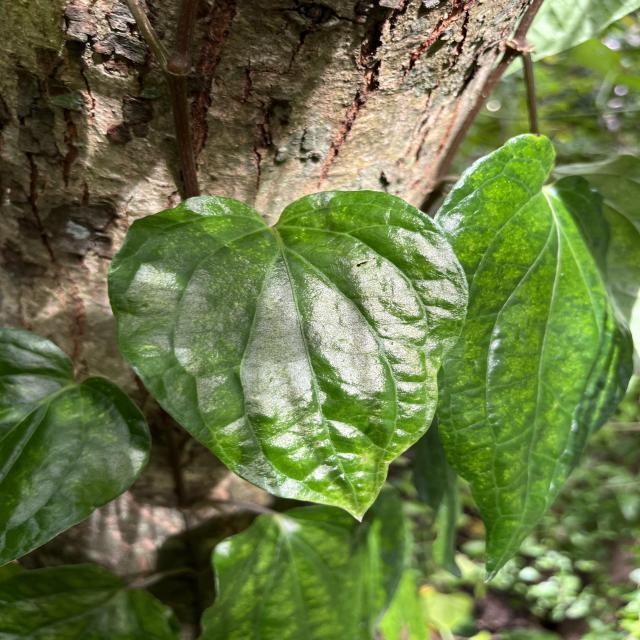Piper betle: (103, 187, 473, 525)
